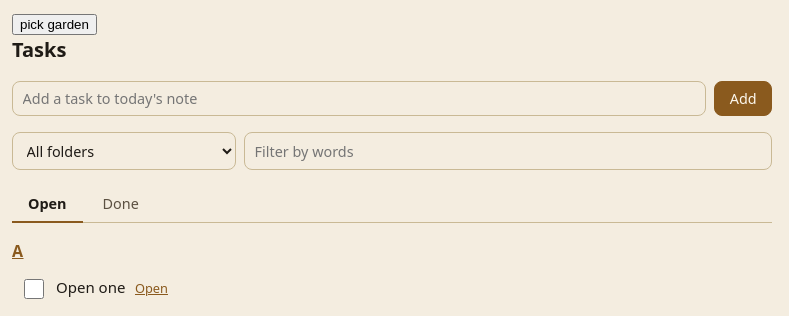
TasksPage Done tab › says nothing was ticked in the last 14 days
Click the tab "Done": (121, 204) [86,186,155,223]
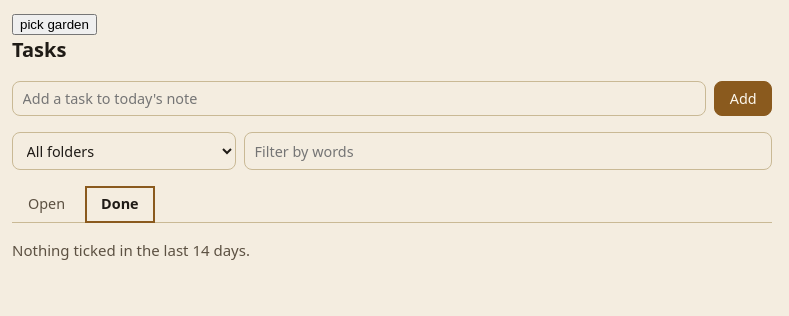
Expected: the text "Nothing ticked in the last 14 days." is shown, [12,240,250,260]
